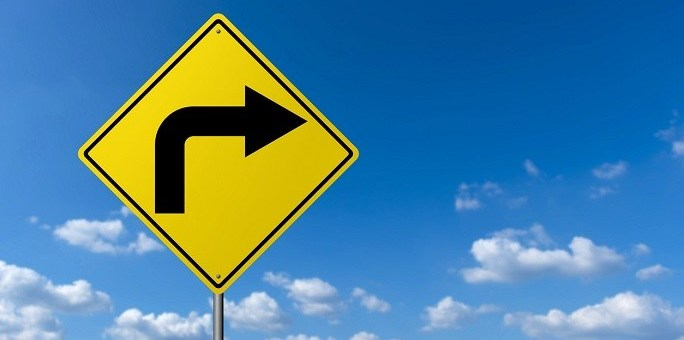right: (74, 13, 362, 301)
